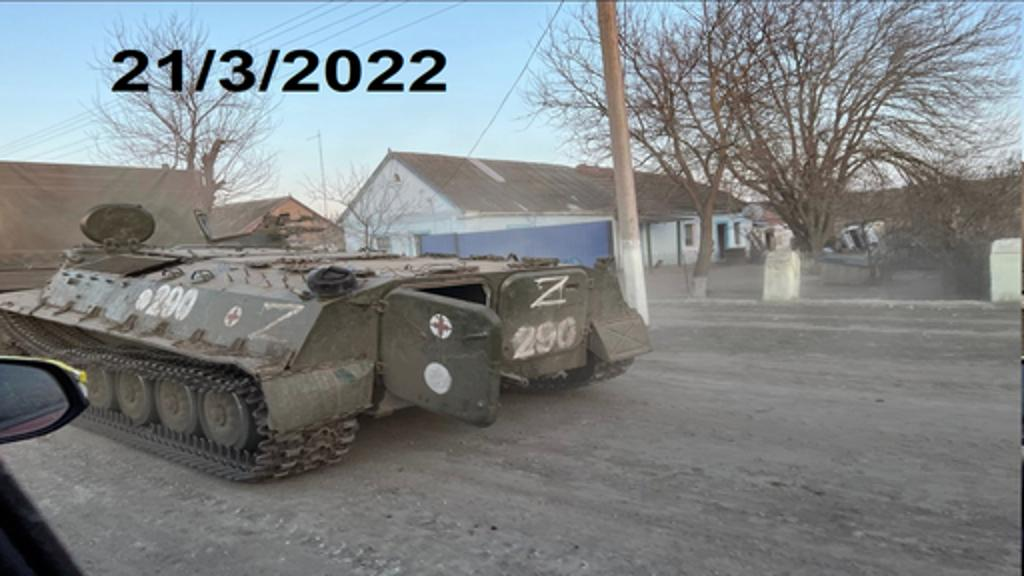APC-IFV: (0, 224, 654, 492)
